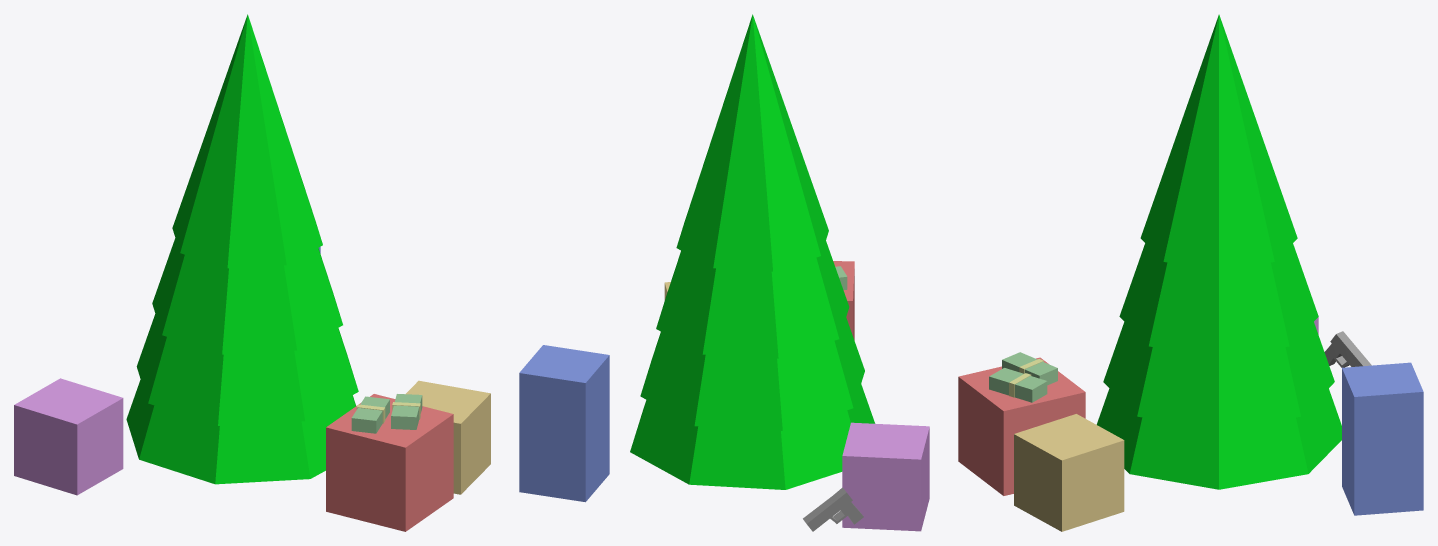
The picture shows the model from 3 angles, left to right: view 1: azimuth 30°, elevation 25°; view 2: azimuth 150°, elevation 25°; view 3: azimuth 270°, elevation 25°; orthographic projection.
Parts seen in each view (by area): view 1: Cone.3, Cube.7-Mat.3, Cube.4, Cube.7-Mat.5, Cube.7-Mat.9; view 2: Cone.3, Cube.2, Cube.4, Cube.6, Cube.7-Mat.3; view 3: Cone.3, Cube.2, Cube.7-Mat.5, Cube.7-Mat.3, Cube.7-Mat.9, Cube.6.
Boxes of the visible parts, left/top/right/bottom form: Cone.3: left=126, top=14, right=358, bottom=484; Cube.7-Mat.3: left=326, top=394, right=453, bottom=531; Cube.4: left=14, top=378, right=123, bottom=495; Cube.7-Mat.5: left=405, top=380, right=490, bottom=494; Cube.7-Mat.9: left=351, top=394, right=422, bottom=433; Cone.3: left=630, top=14, right=874, bottom=489; Cube.2: left=519, top=345, right=609, bottom=502; Cube.4: left=842, top=422, right=929, bottom=531; Cube.6: left=803, top=487, right=863, bottom=531; Cube.7-Mat.3: left=833, top=261, right=854, bottom=340; Cone.3: left=1096, top=14, right=1341, bottom=489; Cube.2: left=1342, top=362, right=1423, bottom=515; Cube.7-Mat.5: left=1014, top=414, right=1124, bottom=531; Cube.7-Mat.3: left=958, top=357, right=1085, bottom=495; Cube.7-Mat.9: left=989, top=352, right=1057, bottom=402; Cube.6: left=1324, top=331, right=1371, bottom=367.
Size of what is drawn, in the model's own units: 3.86 by 4.42 by 4.23.
